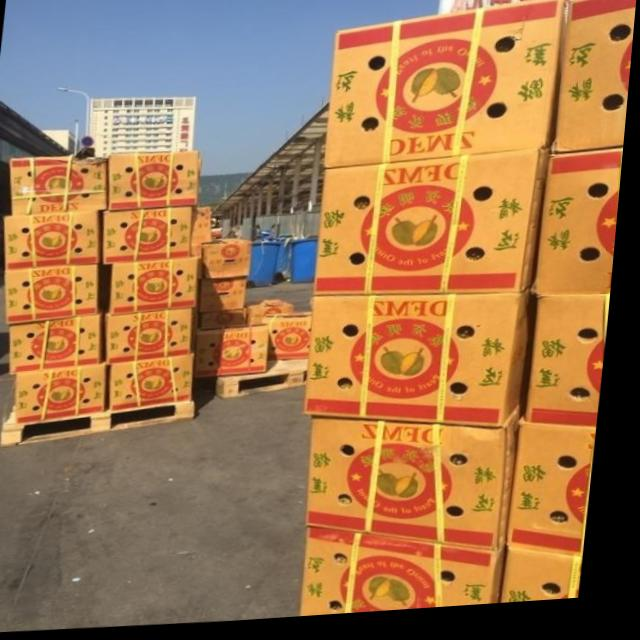box: (326, 2, 565, 173), (317, 154, 554, 300), (310, 296, 535, 434), (316, 414, 530, 559), (309, 530, 515, 621), (556, 0, 638, 162), (538, 156, 627, 303), (517, 422, 605, 565), (534, 302, 615, 436), (13, 156, 111, 216), (13, 315, 109, 376), (7, 212, 105, 271), (21, 367, 115, 426), (10, 266, 104, 324), (112, 154, 205, 212), (113, 260, 205, 317), (107, 209, 198, 265), (115, 356, 201, 413), (113, 311, 200, 367), (513, 554, 593, 611), (202, 330, 275, 382), (274, 315, 318, 364), (207, 241, 257, 283), (206, 279, 251, 315), (251, 302, 300, 328), (195, 209, 216, 258), (206, 312, 251, 332)
